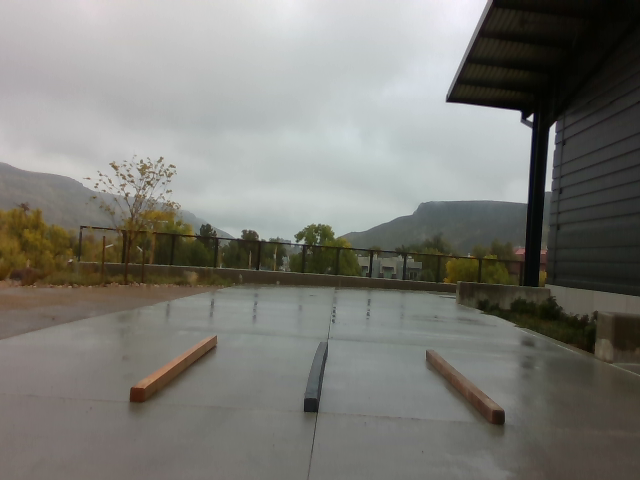dunnage: (127, 326, 529, 431)
